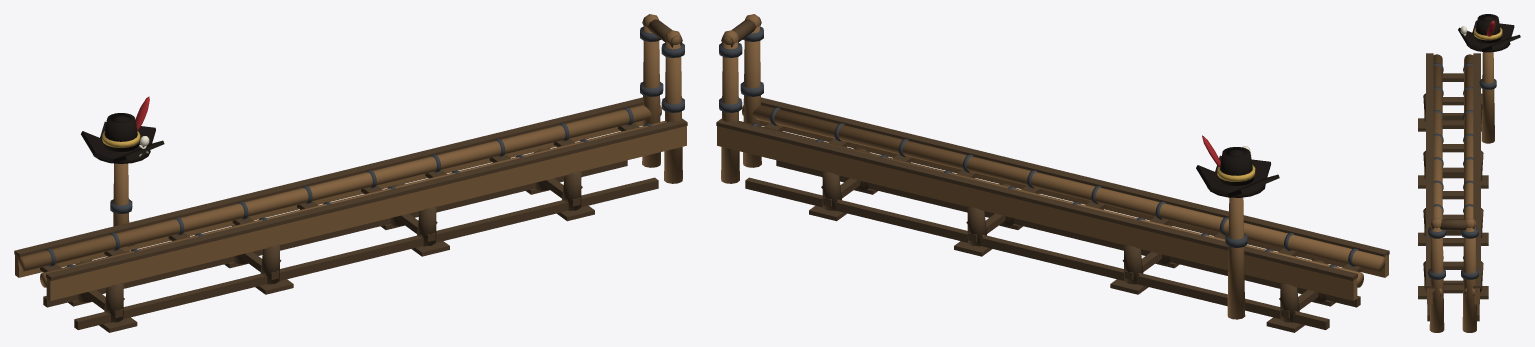
Rendered from rack.glb.
3 renders of one model, left to right at view 1: azimuth 30°, elevation 25°; view 2: azimuth 150°, elevation 25°; view 3: azimuth 270°, elevation 25°, orthographic. The views are drawn at different scales.
Visible parts, largest first — view 1: rack_frame, pirate_hat; view 2: rack_frame, pirate_hat; view 3: rack_frame, pirate_hat.
Boxes of the visible parts, x1,y1,x2,y2 form: rack_frame: [14, 14, 687, 332]; pirate_hat: [81, 96, 164, 163]; rack_frame: [716, 14, 1389, 332]; pirate_hat: [1196, 135, 1279, 197]; rack_frame: [1418, 52, 1496, 332]; pirate_hat: [1458, 14, 1520, 52].
Bounding box in the file's own units: 1.15 × 0.3048 × 0.2123.
